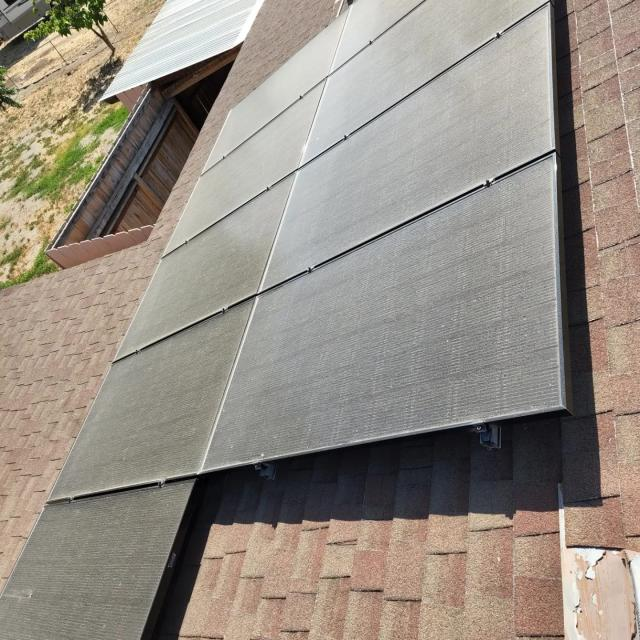dust-solar-panel: (0, 0, 566, 640)
